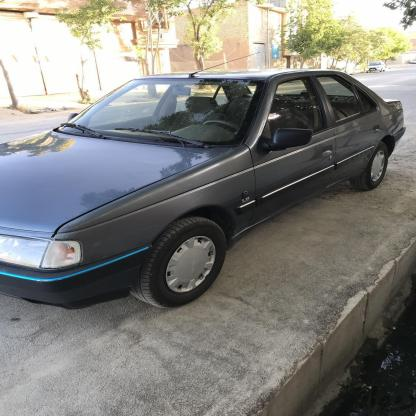Car: (0, 76, 409, 301)
